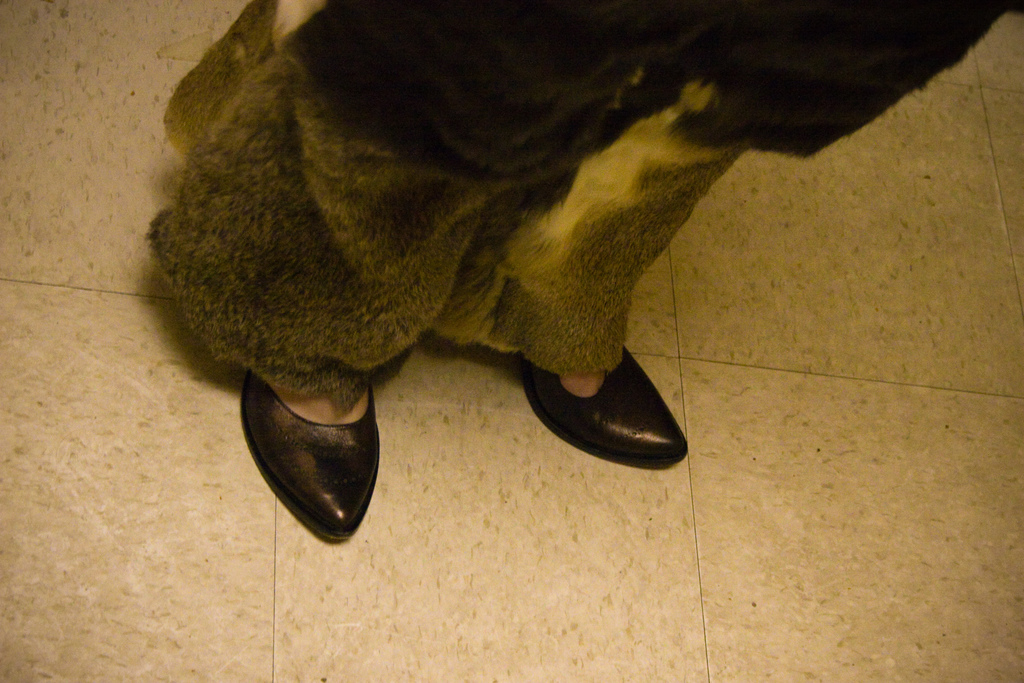Footwear: (239, 367, 376, 538), (522, 341, 688, 465)
